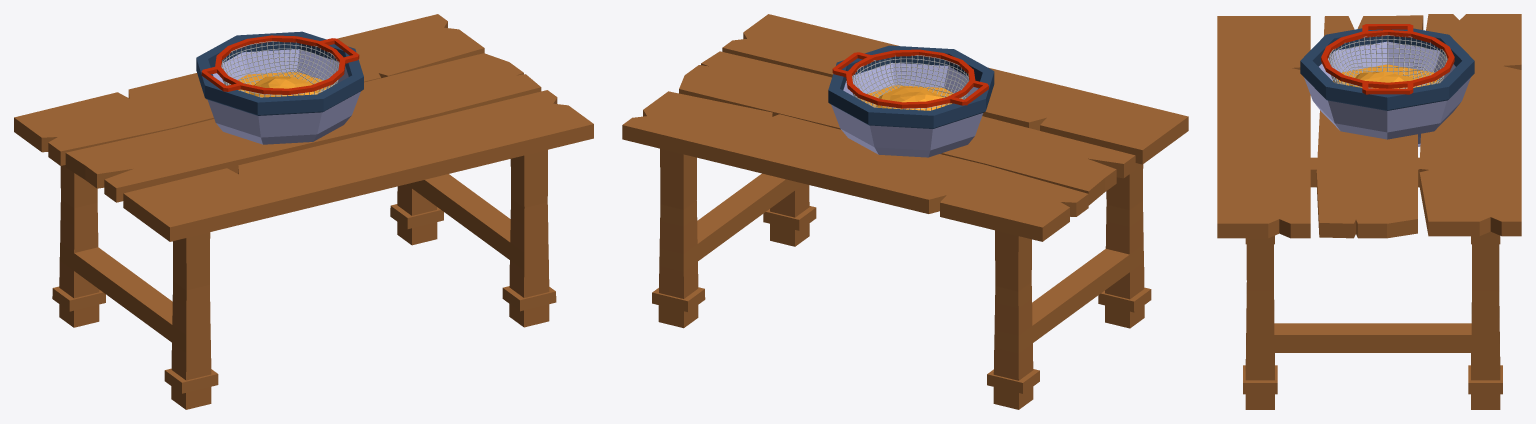
Rendered from menyaring.fbx.
The picture shows the model from 3 angles, left to right: view 1: azimuth 30°, elevation 25°; view 2: azimuth 150°, elevation 25°; view 3: azimuth 270°, elevation 25°; orthographic projection.
Visible parts, largest first — view 1: Cube.005, Circle.003, Circle.002, Sphere.011, Circle.006; view 2: Cube.005, Circle.003, Circle.002, Sphere.011; view 3: Cube.005, Circle.003, Circle.002, Circle.006, Sphere.011.
Boxes of the visible parts, x1,y1,x2,y2 form: Cube.005: [14, 14, 593, 409]; Circle.003: [196, 31, 363, 144]; Circle.002: [201, 35, 359, 97]; Sphere.011: [250, 76, 318, 97]; Circle.006: [229, 71, 333, 93]; Cube.005: [622, 14, 1188, 409]; Circle.003: [828, 45, 994, 157]; Circle.002: [832, 49, 988, 110]; Sphere.011: [876, 86, 945, 110]; Cube.005: [1217, 14, 1521, 409]; Circle.003: [1300, 28, 1474, 146]; Circle.002: [1321, 24, 1454, 94]; Circle.006: [1333, 64, 1438, 86]; Sphere.011: [1350, 71, 1421, 88].
Bounding box in the file's own units: 610 × 347 × 374.
